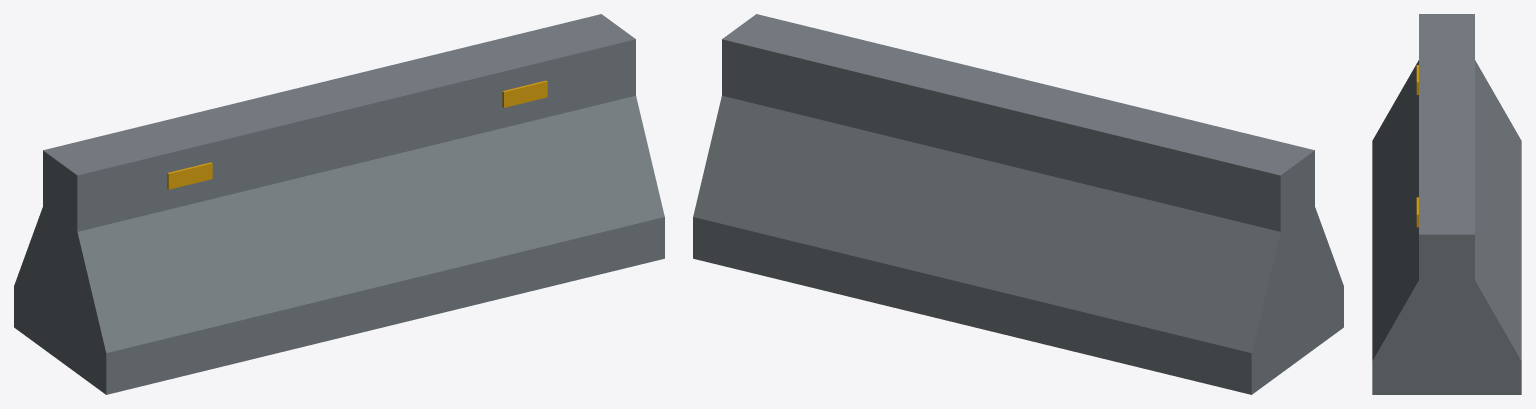
Rendered from JerseyBarrierLong.fbx.
The picture shows the model from 3 angles, left to right: view 1: azimuth 30°, elevation 25°; view 2: azimuth 150°, elevation 25°; view 3: azimuth 270°, elevation 25°; orthographic projection. The views are drawn at different scales.
Parts seen in each view (by area): view 1: JerseyBarrierLong; view 2: JerseyBarrierLong; view 3: JerseyBarrierLong.
Boxes of the visible parts, x1,y1,x2,y2 form: JerseyBarrierLong: (14, 14, 664, 394); JerseyBarrierLong: (693, 14, 1343, 394); JerseyBarrierLong: (1372, 14, 1521, 394).
Bounding box in the file's own units: 280 × 95 × 80.
1 material, 1 textured.
